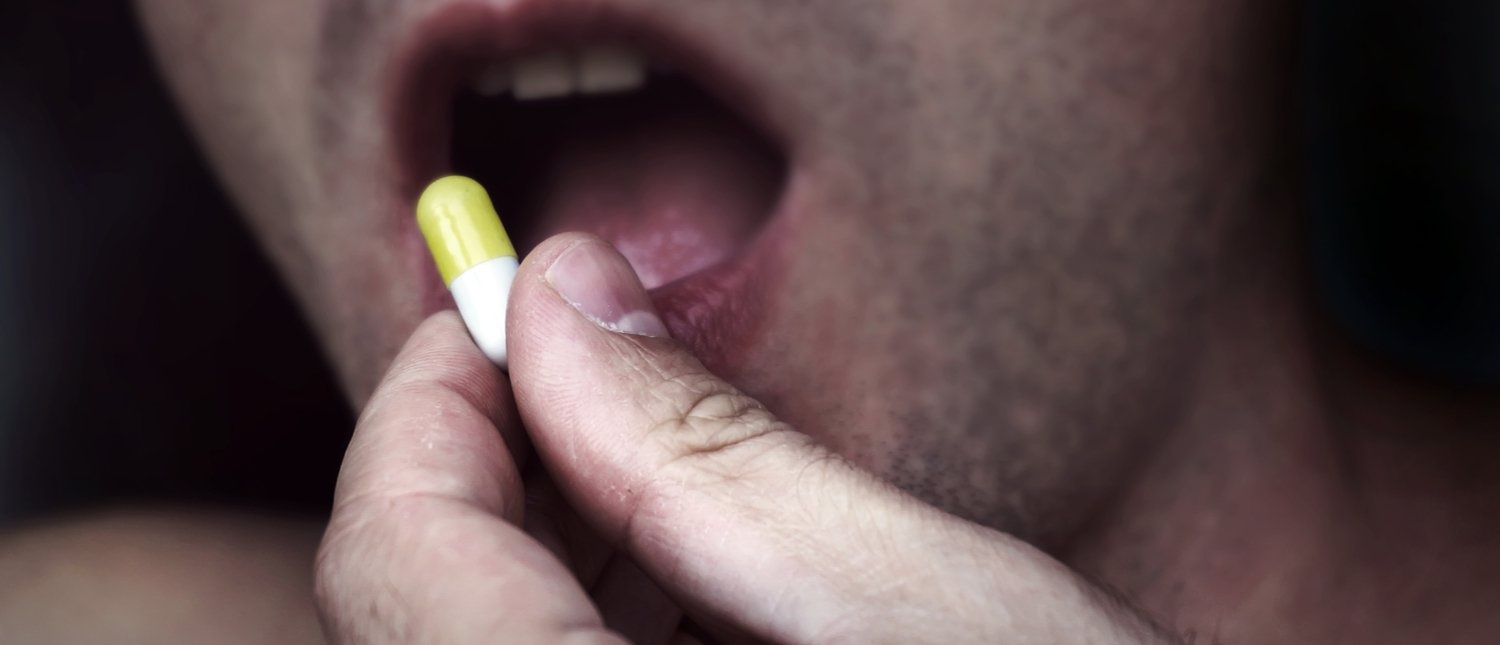pills: (417, 167, 510, 389)
